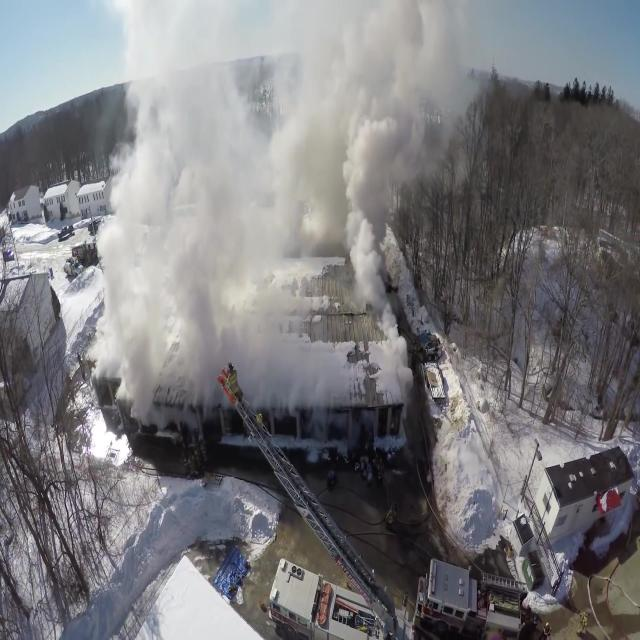Smoke: (102, 0, 477, 450)
